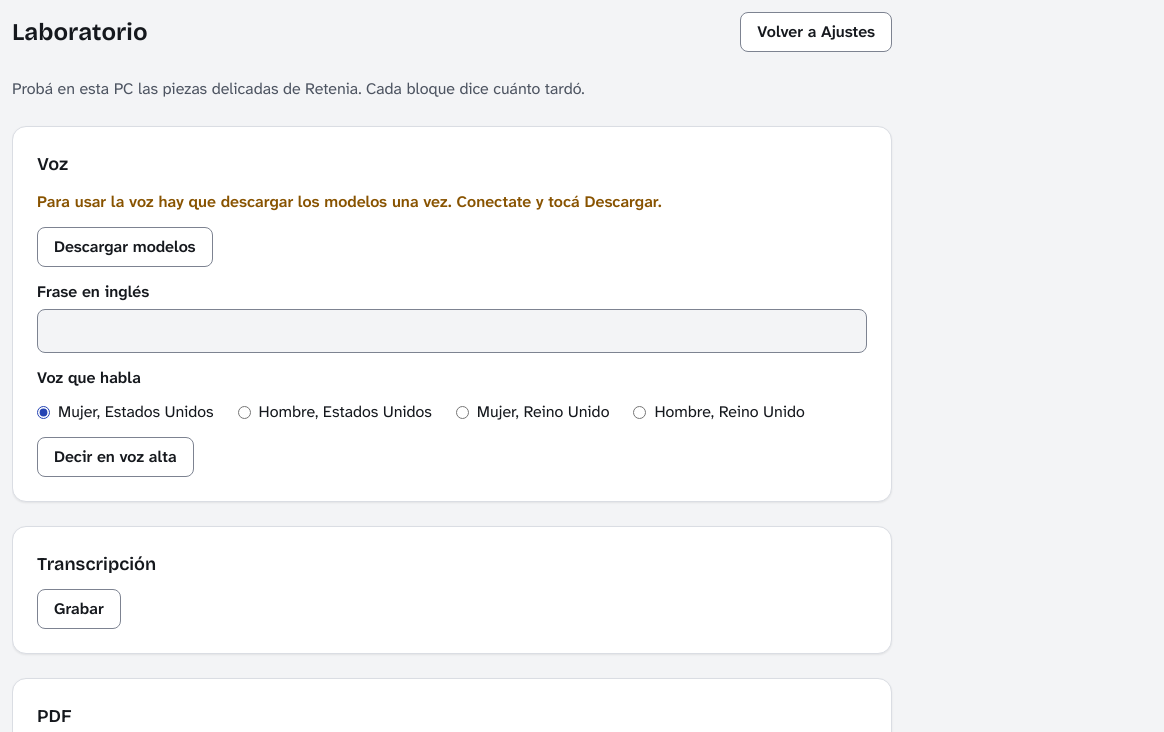
Scenario: Laboratorio › [CA-024] si llega un archivo dañado, lo dice y deja volver a descargar (simulado)
Click the button "Descargar modelos" at (125, 247), box [37,227,212,267]
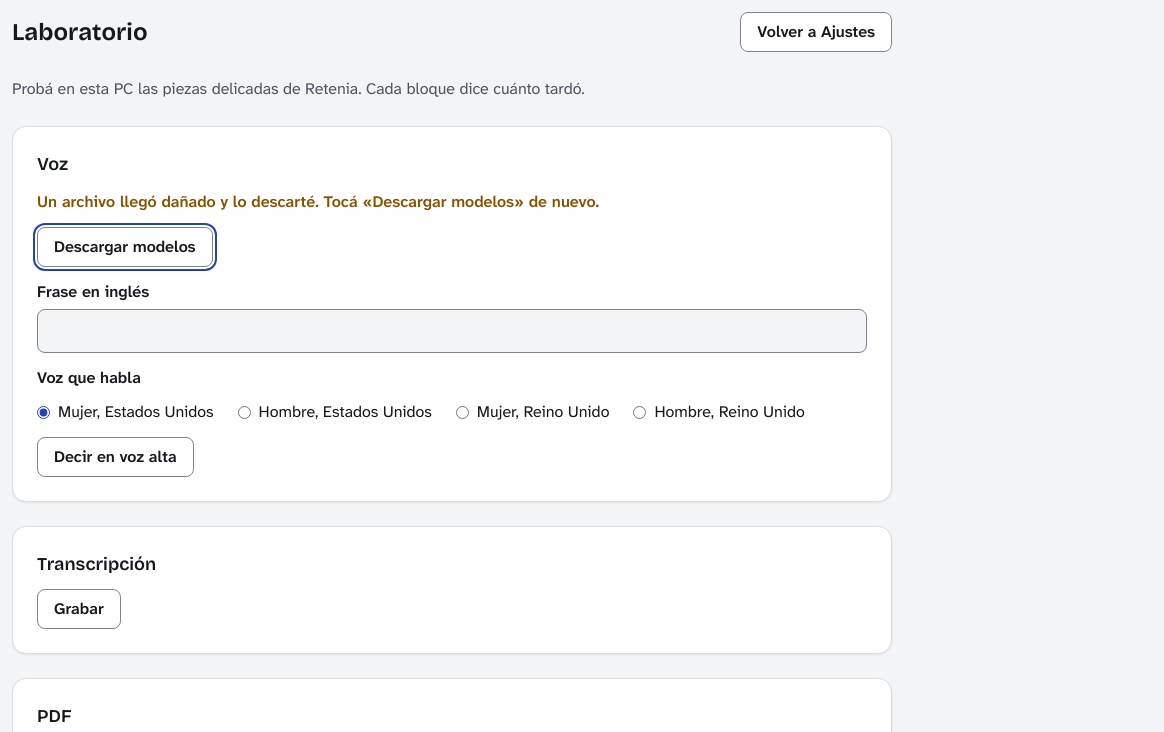
Now the text "Un archivo llegó dañado y lo descarté. Tocá «Descargar modelos» de nuevo." is shown, box [37,191,599,212]
